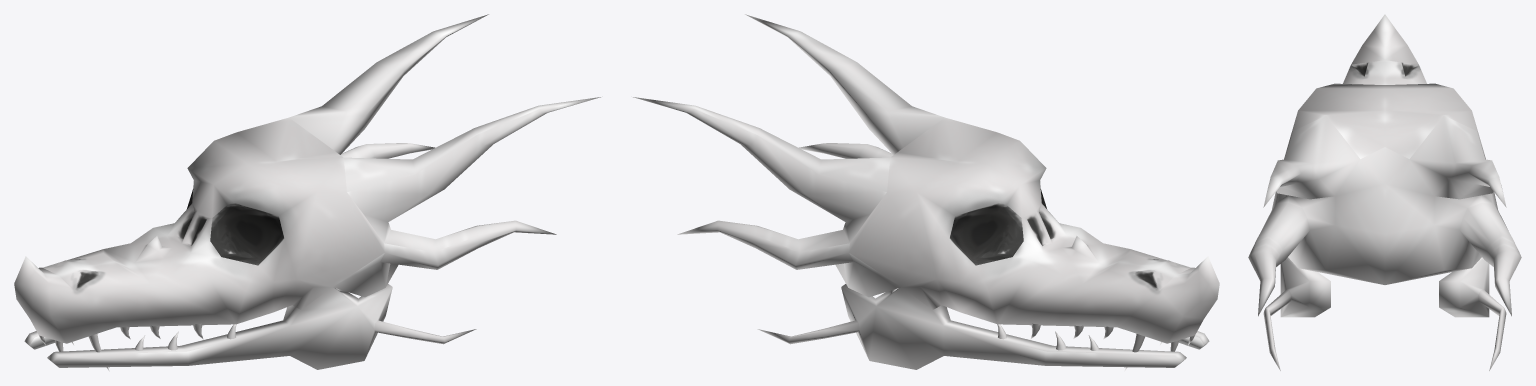
Rendered from bone_dragon_head.fbx.
3 renders of one model, left to right at view 1: azimuth 30°, elevation 25°; view 2: azimuth 150°, elevation 25°; view 3: azimuth 270°, elevation 25°, orthographic. The views are drawn at different scales.
Parts seen in each view (by area): view 1: dragon_head; view 2: dragon_head; view 3: dragon_head.
Boxes of the visible parts, box(x1,y1,x2,y2) form: dragon_head: box(14, 14, 600, 371); dragon_head: box(633, 14, 1219, 371); dragon_head: box(1248, 14, 1521, 370).
Bounding box in the file's own units: 100 × 39.16 × 41.52.
